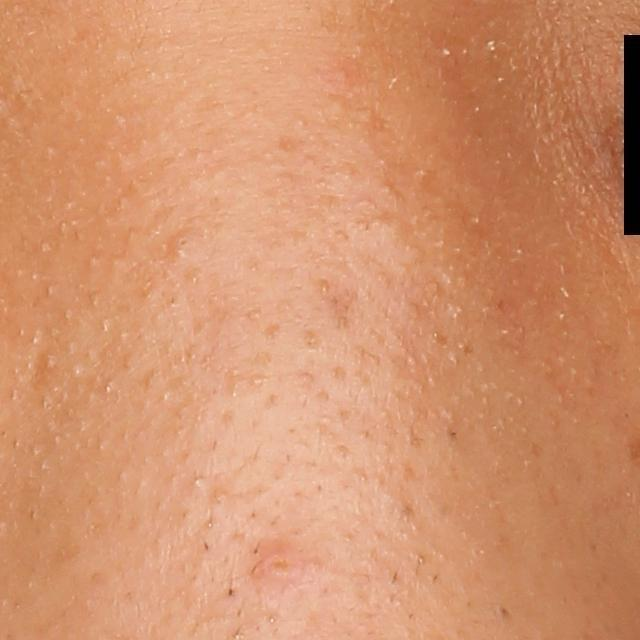papule: (224, 536, 333, 589)
